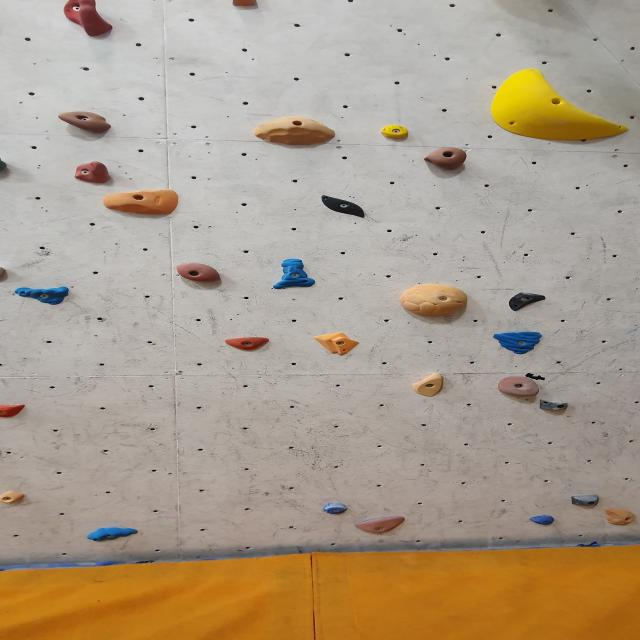Crimp: (491, 333, 544, 355), (352, 516, 408, 536), (71, 162, 113, 185), (13, 287, 72, 303), (86, 526, 140, 542), (222, 338, 272, 352), (507, 293, 548, 308), (377, 125, 411, 143), (0, 406, 30, 420), (0, 491, 28, 505), (321, 502, 348, 514), (530, 514, 557, 525)
Jug: (59, 0, 117, 37), (56, 111, 116, 136), (174, 264, 226, 284), (496, 376, 542, 398)
Pinch: (268, 256, 318, 290), (409, 374, 446, 398), (540, 401, 573, 413), (570, 494, 600, 506)
Sloper: (488, 66, 634, 140), (248, 118, 340, 148), (399, 284, 472, 318), (99, 191, 181, 217), (314, 191, 376, 222), (422, 148, 472, 174), (311, 332, 358, 356), (604, 509, 640, 527)
